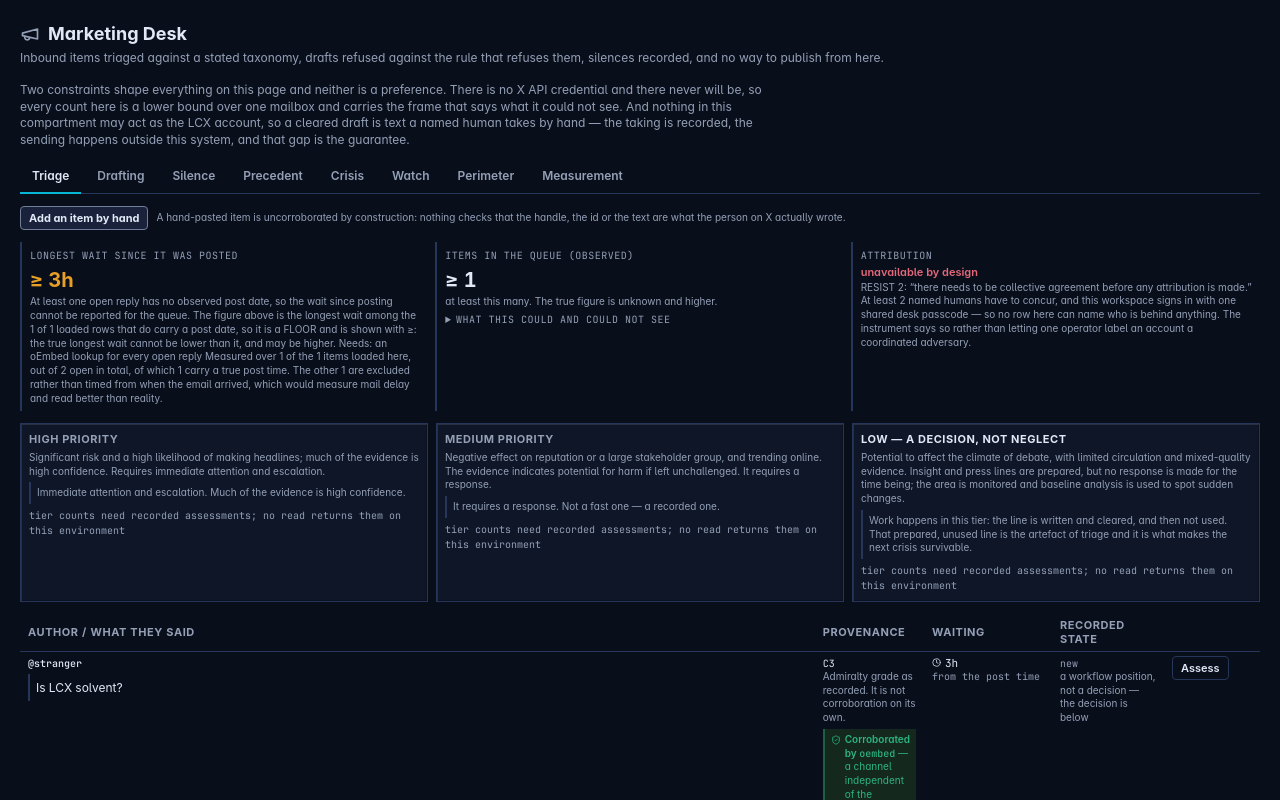
Scenario: an empty log and an undeployed log are different facts › shows "nothing here" when the silence route answers with no rows
The image size is (1280, 800).
Step 1. Click the tab "Silence" → (194, 177), box x1=160 y1=160 x2=227 y2=194
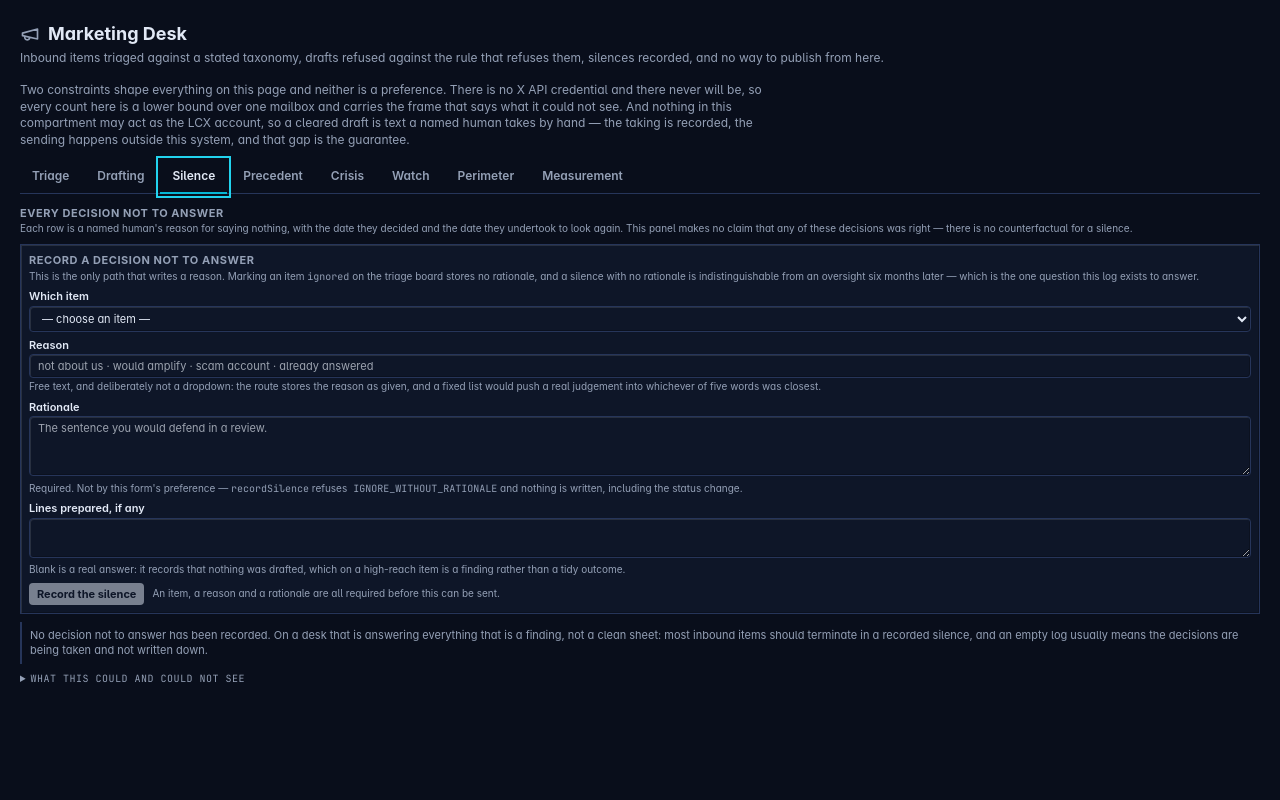
Check: the text with test id "mkt-empty-nothing" is shown, box x1=20 y1=622 x2=1260 y2=664
Check: the text with test id "mkt-empty-nothing" shows "No decision not to answer has been recorded", box x1=30 y1=628 x2=1238 y2=657
